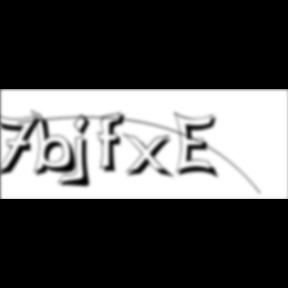7: (0, 111, 48, 179)
E: (174, 110, 222, 182)
b: (30, 109, 84, 179)
f: (98, 111, 132, 175)
j: (70, 113, 98, 191)
x: (124, 132, 179, 181)
